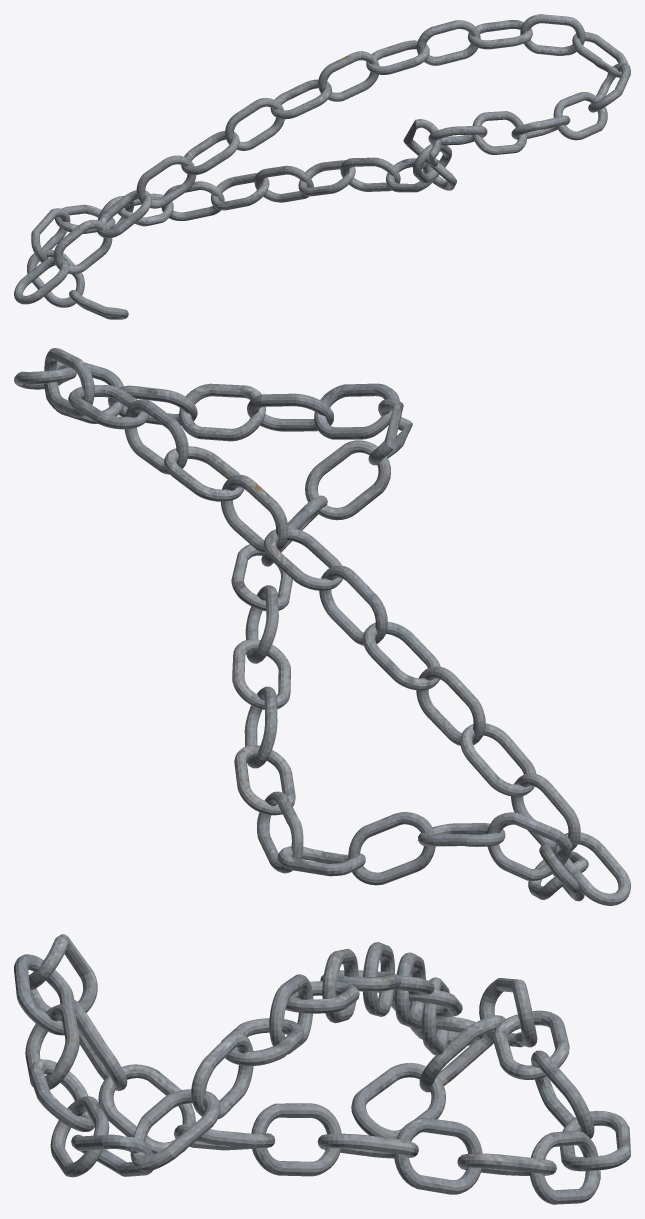
Rendered from stairchainsnostair.fbx.
The picture shows the model from 3 angles, top to bottom: view 1: azimuth 30°, elevation 25°; view 2: azimuth 150°, elevation 25°; view 3: azimuth 270°, elevation 25°; orthographic projection. The views are drawn at different scales.
Visible parts, largest first — view 1: Torus; view 2: Torus; view 3: Torus.
Part boxes in pixels (bbox=[...]): Torus: bbox=[14, 14, 630, 319]; Torus: bbox=[14, 348, 630, 905]; Torus: bbox=[14, 934, 630, 1204].
Size of the model in its own units: 2254 by 1036 by 1413.
